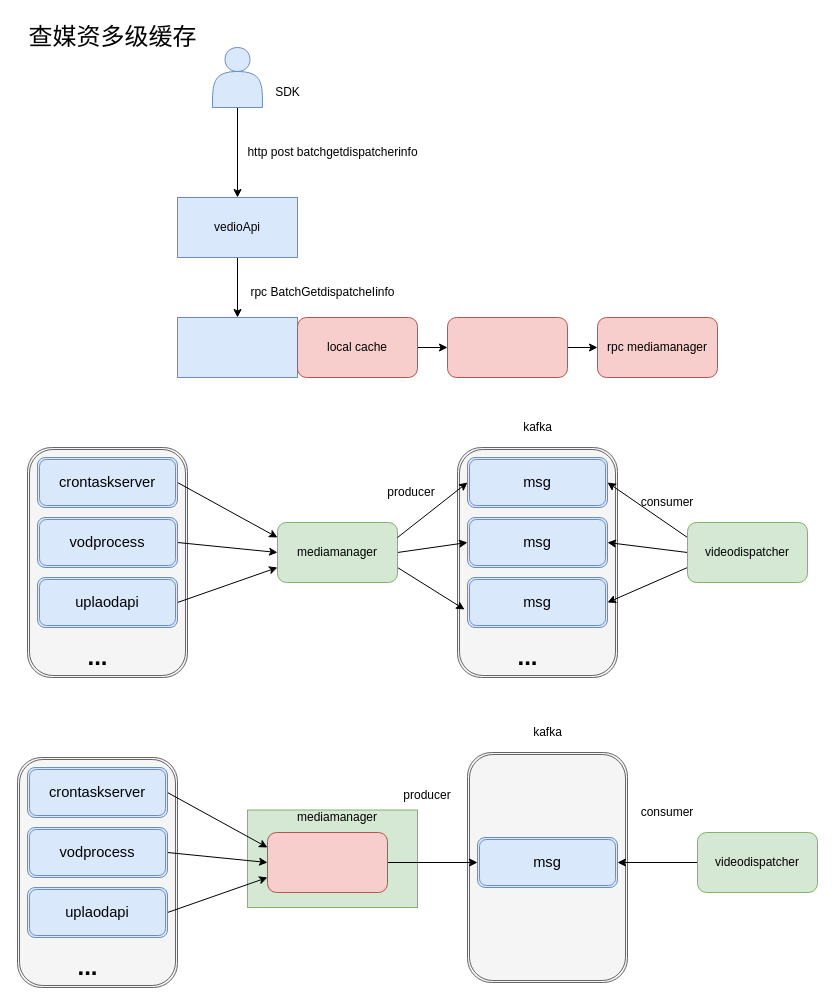
Image size: 835x1005. Some labels were removed from this diagram. Each missing label, with the centre of its shape:
"redis" goes at (x=507, y=347).
"redis zset" goes at (x=327, y=862).
"vediodispatcher" goes at (x=237, y=347).
